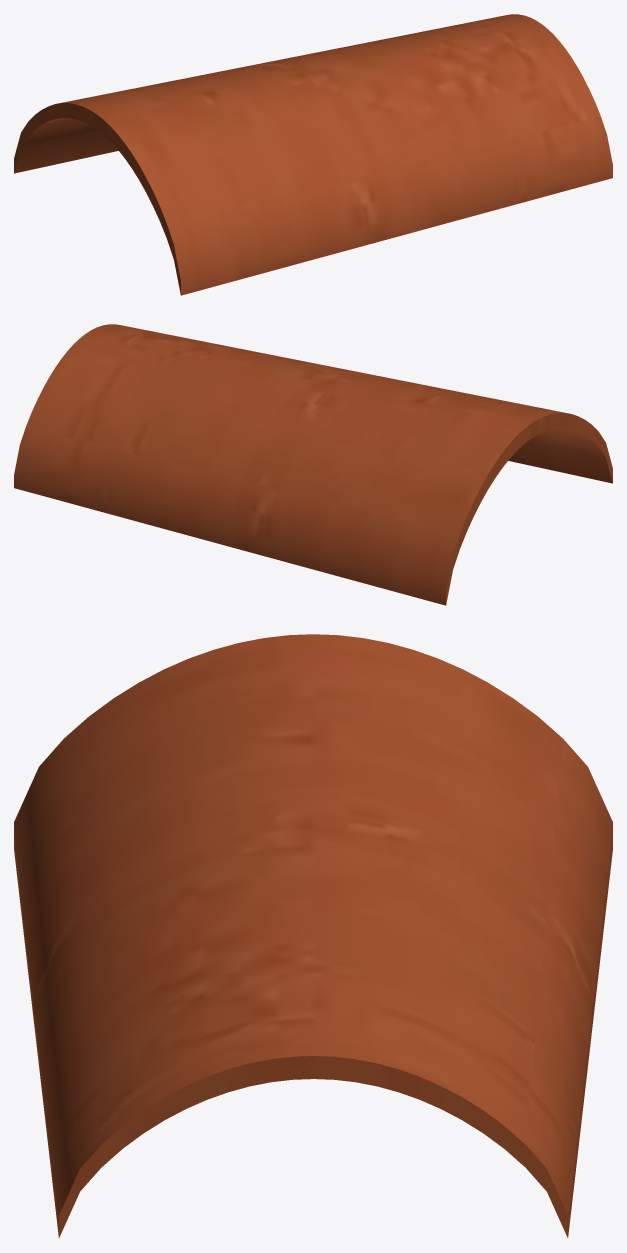
File: COB-CUM-001_lod1.glb
3 views of the same model, one above another, from view 1: azimuth 30°, elevation 25°; view 2: azimuth 150°, elevation 25°; view 3: azimuth 270°, elevation 25° (orthographic). The views are drawn at different scales.
Visible parts, largest first — view 1: COB-CUM-001_peca; view 2: COB-CUM-001_peca; view 3: COB-CUM-001_peca.
Boxes of the visible parts, box(x1,y1,x2,y2) form: COB-CUM-001_peca: box(14, 14, 612, 295); COB-CUM-001_peca: box(14, 324, 612, 605); COB-CUM-001_peca: box(14, 634, 612, 1237).
Size of the model in its own units: 0.4 by 0.103 by 0.26.
Materials: 1 (1 with a texture image).
